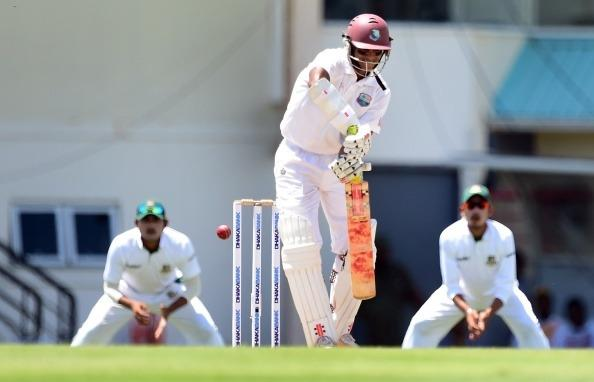batsman: (277, 13, 395, 348)
